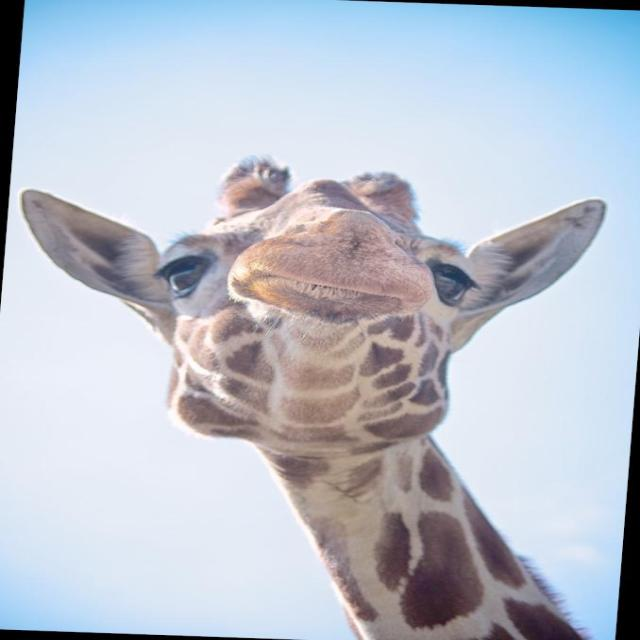Giraffe: (10, 148, 640, 640)
